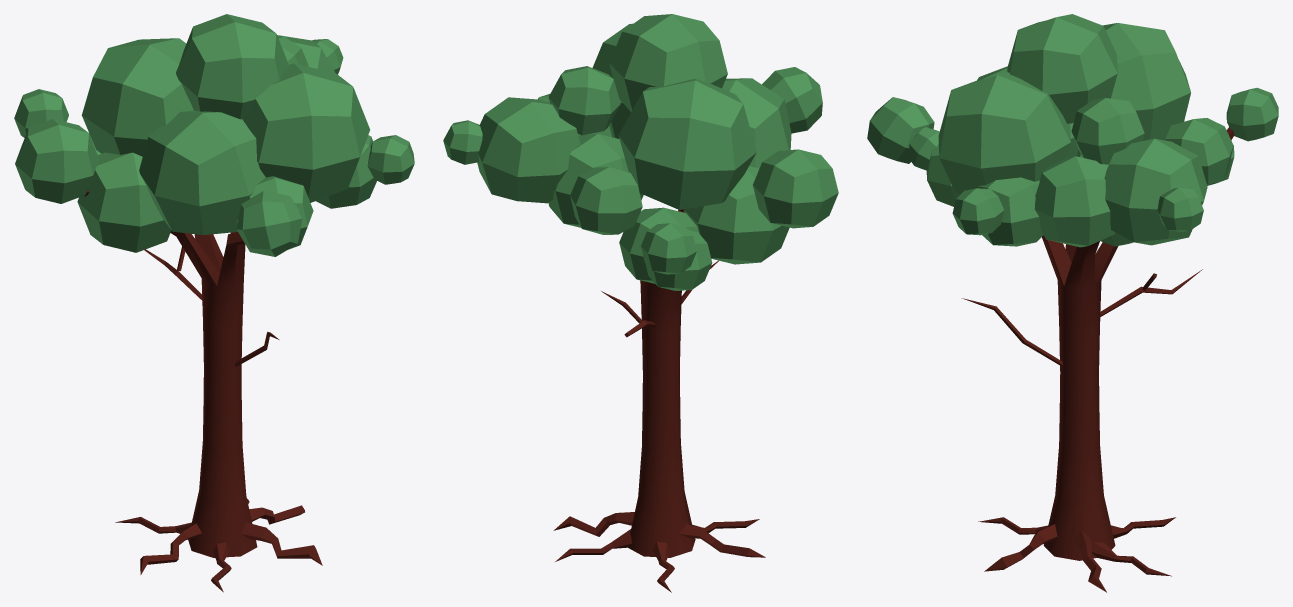
The model's file is TreePear.fbx.
3 views of the same model, side by side, from view 1: azimuth 30°, elevation 25°; view 2: azimuth 150°, elevation 25°; view 3: azimuth 270°, elevation 25° (orthographic).
Visible parts, largest first — view 1: TreePear; view 2: TreePear; view 3: TreePear.
Part boxes in pixels (box(x1,y1,x2,y2)): TreePear: box(14, 14, 414, 592); TreePear: box(443, 14, 838, 592); TreePear: box(867, 14, 1278, 592).
Bounding box in the file's own units: 177 × 253 × 178.
